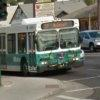buses: (0, 17, 83, 73)
